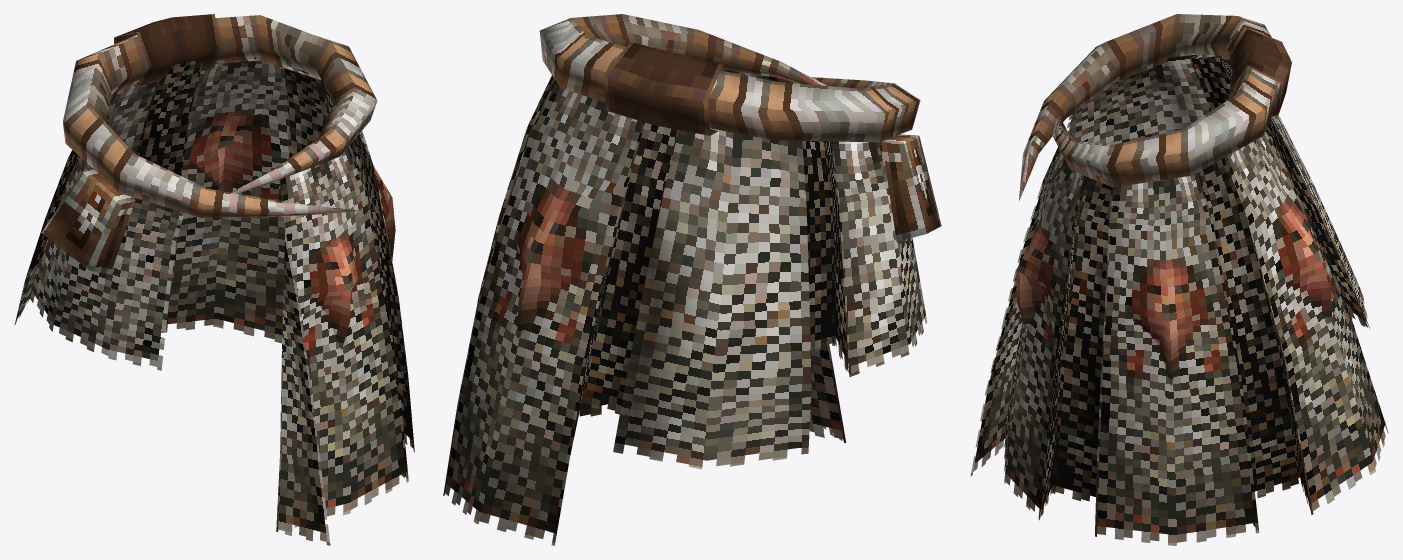
The model's file is m_waist020.obj.
3 renders of one model, left to right at view 1: azimuth 30°, elevation 25°; view 2: azimuth 150°, elevation 25°; view 3: azimuth 270°, elevation 25°, orthographic. The views are drawn at different scales.
Visible parts, largest first — view 1: mesh00; view 2: mesh00; view 3: mesh00.
Boxes of the visible parts, <box> form: mesh00: <box>14,14,414,545</box>; mesh00: <box>443,14,941,545</box>; mesh00: <box>970,14,1388,545</box>.
Size of the model in its own units: 63.63 by 70.29 by 62.59.
1 material, 1 textured.
